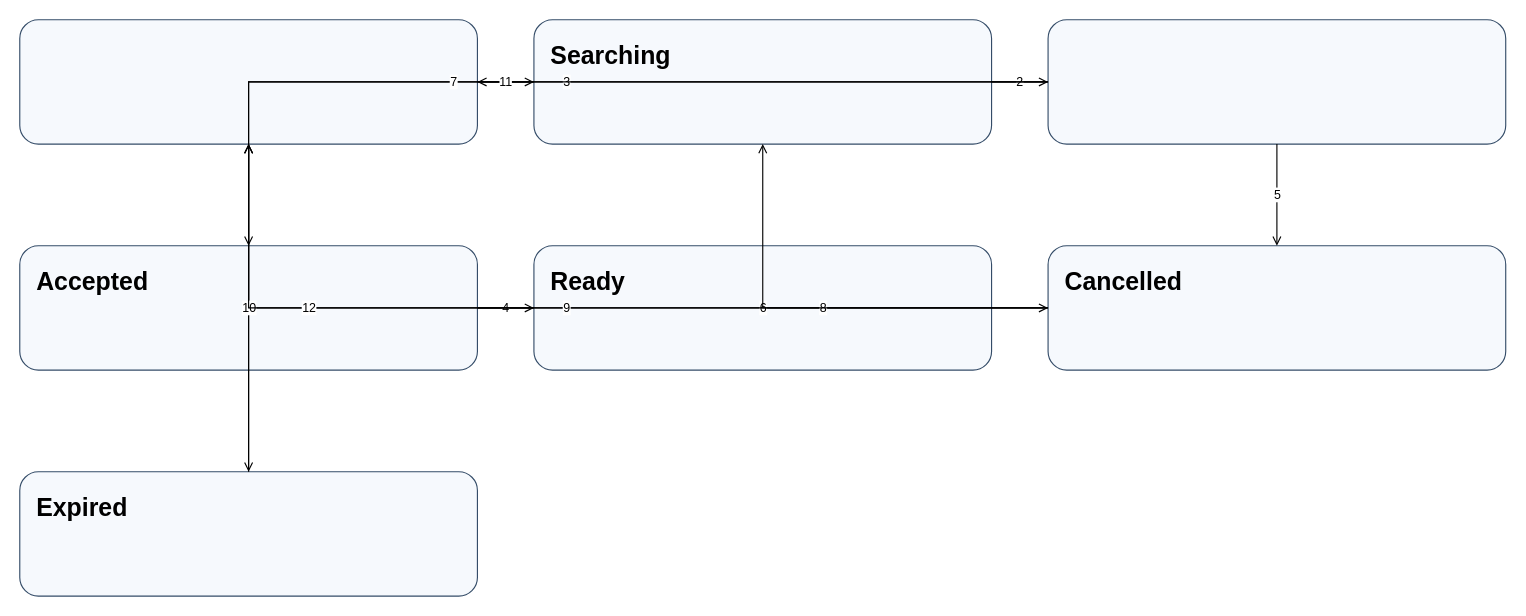
This 1526x616 diagram has some shape labels left out. The centre of each missing label's shape, as x and y in pixels:
Idle: (248,81)
Offered: (1276,81)
